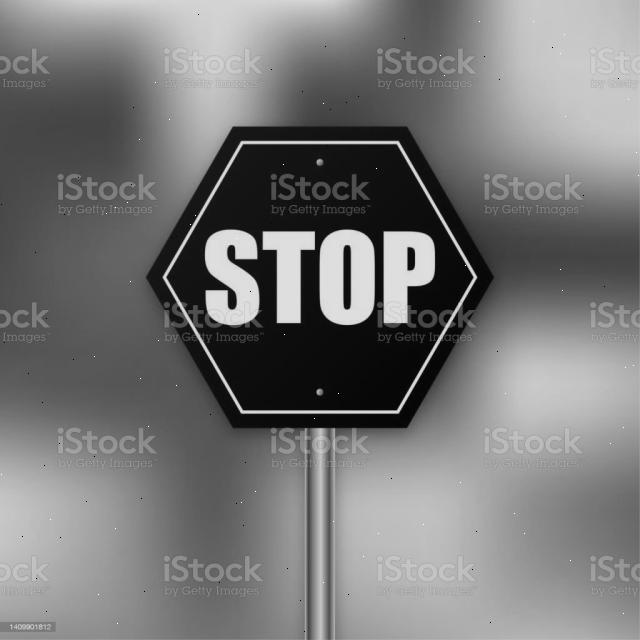Stop-sign: (138, 92, 524, 448)
